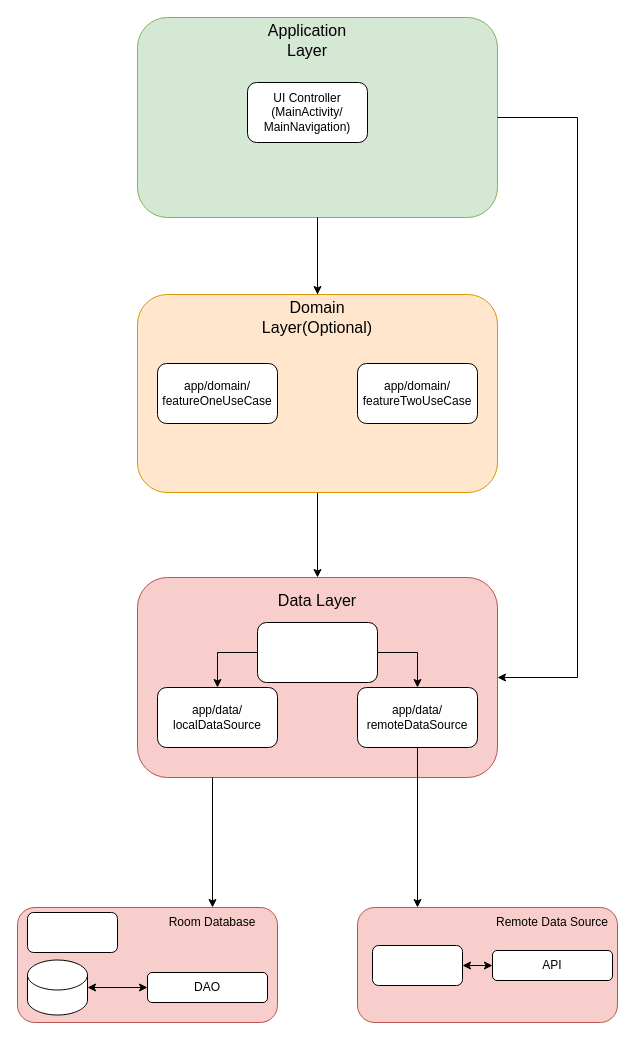
Some shapes in this 635 by 1040 pixel diagram are drawn without their labels. Each missing label, with the centre of its shape:
"app/data/ repositoryImpl" goes at (317,652).
"Entity" goes at (72,932).
"SQLite" goes at (57,987).
"Web Service" goes at (417,965).
